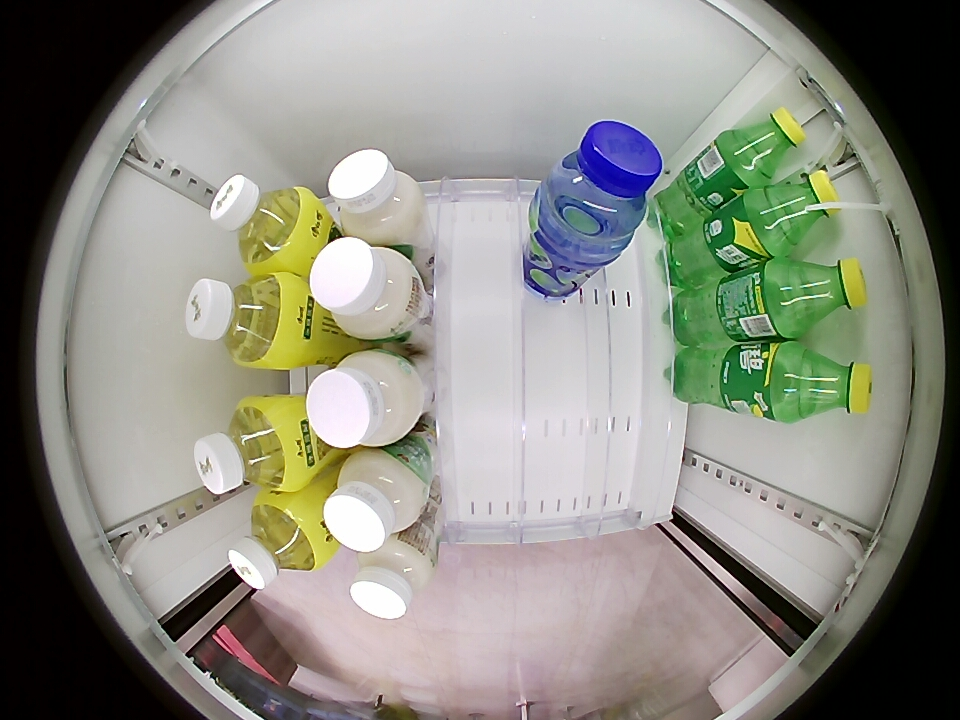bingtangxueli: (185, 272, 305, 369), (194, 396, 308, 496), (209, 175, 319, 272), (228, 492, 329, 589)
maidong: (542, 120, 664, 244)
xuebi-b: (759, 170, 841, 248), (789, 346, 873, 420), (786, 257, 867, 329), (729, 107, 806, 179)
yousuanru: (306, 347, 422, 449), (309, 236, 420, 341), (322, 448, 428, 553), (328, 149, 424, 245), (349, 537, 434, 619)
